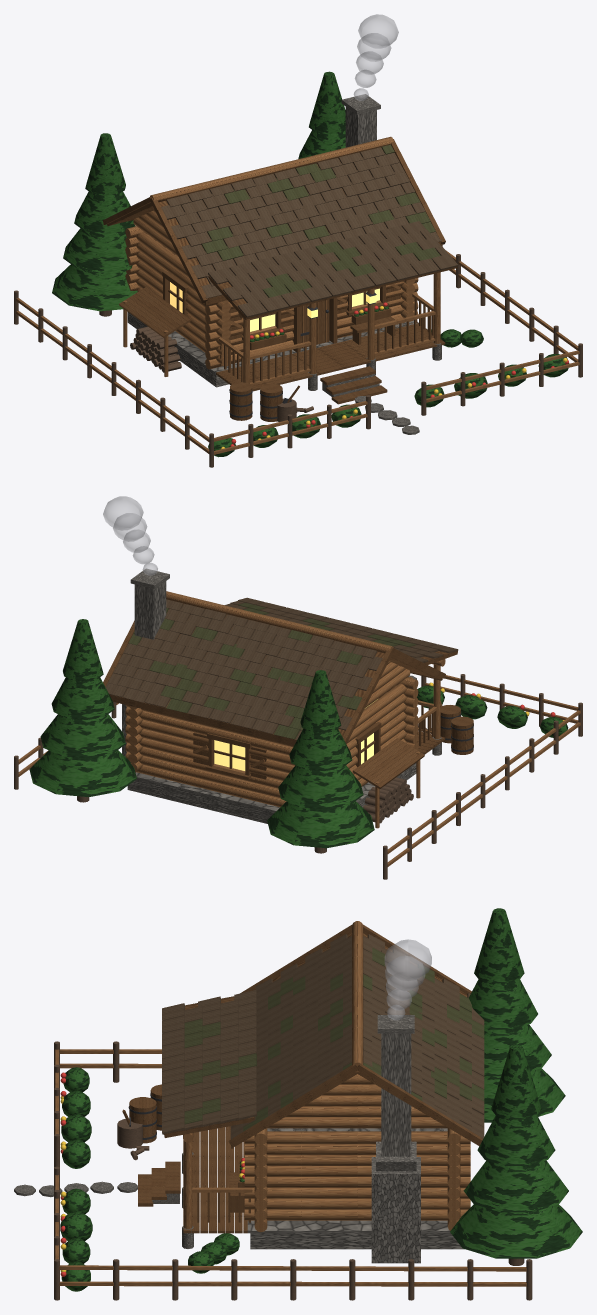
File: cabana_espectacular_juego.glb
3 views of the same model, one above another, from view 1: azimuth 30°, elevation 25°; view 2: azimuth 150°, elevation 25°; view 3: azimuth 270°, elevation 25° (orthographic). The views are drawn at different scales.
Parts seen in each view (by area): view 1: CB_Tablilla_-1_0_0, CB_Tronco_F-1_0_0, CB_Tablero_-1, CB_Hoja_J-1_0, CB_Lena_0_0, CB_Tablilla_-1_0_2, CB_Zocalo, CB_Humo_0, CB_VentanaFI_Luz; view 2: CB_Hoja_J-1_0, CB_Tablilla_-1_0_0, CB_Tronco_F-1_0_0, CB_Tablero_-1, CB_Zocalo, CB_Tablilla_-1_0_2, CB_Lena_0_0, CB_Humo_0, CB_VentanaFI_Luz; view 3: CB_Tablilla_-1_0_0, CB_Tronco_F-1_0_0, CB_Hoja_J-1_0, CB_Zocalo, CB_Tablero_-1, CB_Tablilla_-1_0_2, CB_Lena_0_0, CB_Humo_0.
Part boxes in pixels (x1,y1,x2,y2): CB_Tablilla_-1_0_0: (161,147,458,317); CB_Tronco_F-1_0_0: (16,136,579,454); CB_Tablero_-1: (103,139,457,421); CB_Hoja_J-1_0: (52,71,569,457); CB_Lena_0_0: (14,254,582,467); CB_Tablilla_-1_0_2: (201,144,440,297); CB_Zocalo: (127,94,441,434); CB_Humo_0: (353,14,398,100); CB_VentanaFI_Luz: (170,282,379,331); CB_Hoja_J-1_0: (29,619,568,848); CB_Tablilla_-1_0_0: (105,597,458,740); CB_Tronco_F-1_0_0: (18,591,580,866); CB_Tablero_-1: (103,610,473,788); CB_Zocalo: (122,568,441,823); CB_Tablilla_-1_0_2: (128,603,416,739); CB_Lena_0_0: (14,674,582,879); CB_Humo_0: (103,496,157,575); CB_VentanaFI_Luz: (214,699,377,770); CB_Tablilla_-1_0_0: (162,934,484,1139); CB_Tronco_F-1_0_0: (55,921,526,1286); CB_Hoja_J-1_0: (60,908,582,1291); CB_Zocalo: (14,1015,464,1263); CB_Tablero_-1: (122,924,482,1233); CB_Tablilla_-1_0_2: (184,947,484,1131); CB_Lena_0_0: (54,1041,532,1300); CB_Humo_0: (384,939,431,1020).
Bounding box in the file's own units: 12.14 × 8.36 × 13.25.
Materials: 13 (7 with a texture image).
